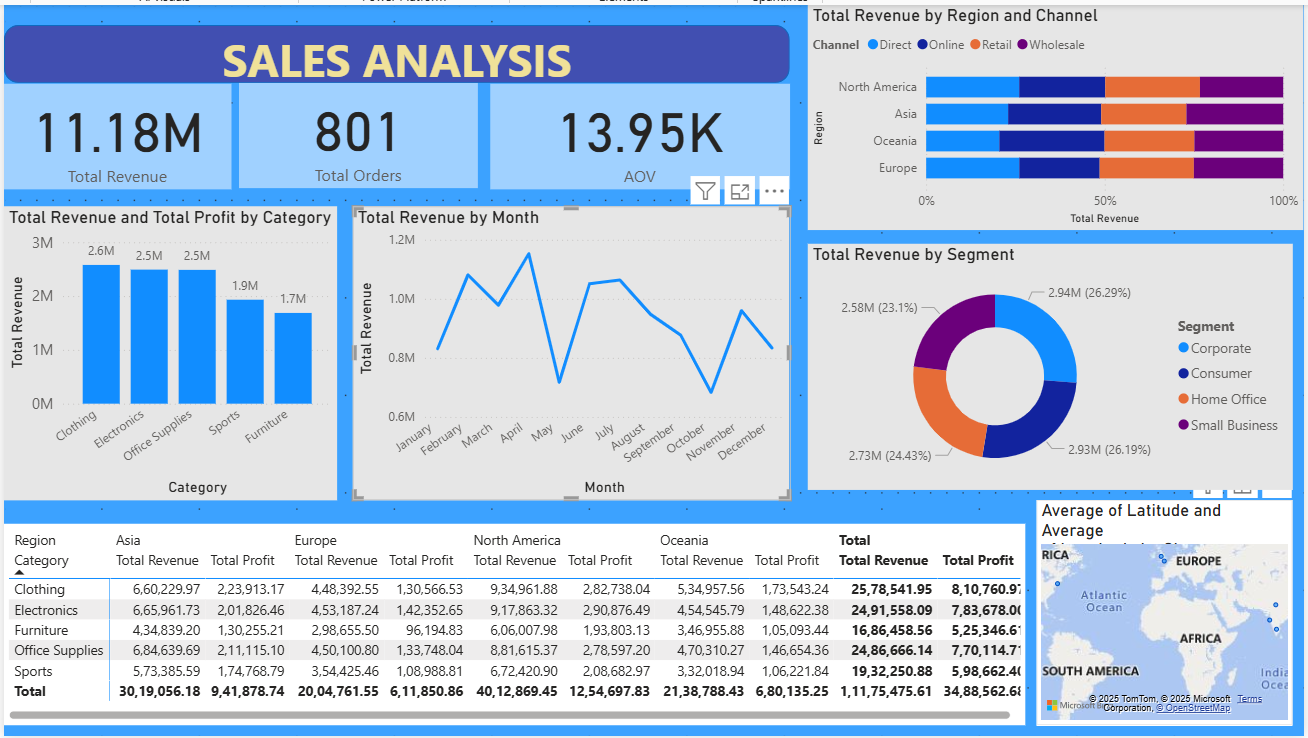

Layout of this report page (visuals, bound fields, positions):
{"tool":"powerbi","page":{"name":"Page 1","canvas":[1280,720],"ordinal":0},"visuals":[{"type":"card","fields":{"Values":["DataDictionary.Total Revenue"]},"box":[0,77.9,224,104.3],"z":0},{"type":"card","fields":{"Values":["DataDictionary.Total Orders"]},"box":[231,76.5,235.1,104.3],"z":1000},{"type":"card","fields":{"Values":["DataDictionary.AOV"]},"box":[478.6,77.9,295,104.3],"z":2000},{"type":"lineChart","fields":{"Category":["DimDate.YearMonth.Variation.Date Hierarchy.Month"],"Y":["DataDictionary.Total Revenue"]},"box":[343.7,197.6,429.9,289.4],"z":3000},{"type":"clusteredColumnChart","fields":{"Category":["DimProduct.Category"],"Y":["DataDictionary.Total Revenue"]},"box":[0,197.6,328.3,289.4],"z":4000},{"type":"hundredPercentStackedBarChart","fields":{"Category":["DimGeo.Region"],"Series":["FactSales.Channel"],"Y":["DataDictionary.Total Revenue"]},"box":[791.7,0,488.3,221.2],"z":5000},{"type":"map","fields":{"Category":["DimGeo.City"],"Y":["Avg(DimGeo.Latitude)"],"X":["Avg(DimGeo.Longitude)"]},"box":[1016.6,487.4,252.3,221.5],"z":6000},{"type":"pivotTable","fields":{"Rows":["DimProduct.Category"],"Columns":["DimGeo.Region"],"Values":["DataDictionary.Total Revenue","DataDictionary.Total Profit"]},"box":[0,510.8,1005.5,198.2],"z":7000},{"type":"donutChart","fields":{"Category":["DimCustomer.Segment"],"Y":["DataDictionary.Total Revenue"]},"box":[791.7,235.1,477.2,242.1],"z":8000},{"type":"shape","box":[0,19.5,773.6,57],"z":8001}]}

Visuals, with their boxes on the page's 1280x720 design canvas (x1, y1, x2, y2). These are canvas units, not pixel positions in the 1308x738 screenshot, which may show the page scaled, cropped or inside an application window:
card - DataDictionary.Total Revenue: box(0, 78, 224, 182)
card - DataDictionary.Total Orders: box(231, 76, 466, 181)
card - DataDictionary.AOV: box(479, 78, 774, 182)
lineChart - DimDate.YearMonth.Variation.Date Hierarchy.Month x DataDictionary.Total Revenue: box(344, 198, 774, 487)
clusteredColumnChart - DimProduct.Category x DataDictionary.Total Revenue: box(0, 198, 328, 487)
hundredPercentStackedBarChart - DimGeo.Region x FactSales.Channel: box(792, 0, 1280, 221)
map - DimGeo.City x Avg(DimGeo.Latitude): box(1017, 487, 1269, 709)
pivotTable - DimProduct.Category x DimGeo.Region: box(0, 511, 1006, 709)
donutChart - DimCustomer.Segment x DataDictionary.Total Revenue: box(792, 235, 1269, 477)
shape: box(0, 20, 774, 76)
